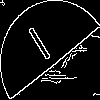I: (25, 24, 58, 70)
